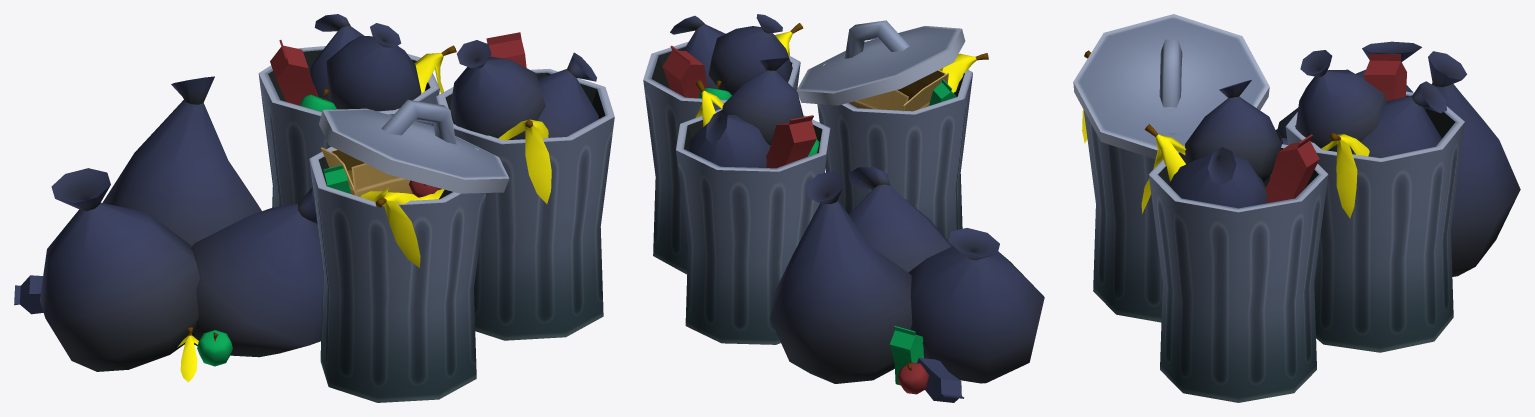
The model's file is prop_GarbagePile01.fbx.
3 renders of one model, left to right at view 1: azimuth 30°, elevation 25°; view 2: azimuth 150°, elevation 25°; view 3: azimuth 270°, elevation 25°, orthographic. The views are drawn at different scales.
Parts seen in each view (by area): view 1: prop_GarbageCan03, prop_GarbageCan02, prop_GarbageBag02, prop_GarbageCan01, prop_GarbageBag01, prop_GarbageBag03, prop_Garbage; view 2: prop_GarbageCan01, prop_GarbageCan03, prop_GarbageBag03, prop_GarbageBag02, prop_GarbageCan02, prop_GarbageBag01, prop_Garbage; view 3: prop_GarbageCan02, prop_GarbageCan01, prop_GarbageCan03, prop_GarbageBag03, prop_GarbageBag02.
Part boxes in pixels (x1,y1,x2,y2): prop_GarbageCan03: (309, 99, 509, 402); prop_GarbageCan02: (436, 32, 614, 340); prop_GarbageBag02: (40, 168, 200, 371); prop_GarbageCan01: (258, 14, 456, 207); prop_GarbageBag01: (191, 187, 323, 357); prop_GarbageBag03: (102, 76, 261, 246); prop_Garbage: (14, 275, 232, 382); prop_GarbageCan01: (676, 58, 830, 344); prop_GarbageCan03: (796, 20, 988, 240); prop_GarbageBag03: (770, 171, 912, 383); prop_GarbageBag02: (908, 228, 1044, 383); prop_GarbageCan02: (643, 14, 803, 274); prop_GarbageBag01: (848, 167, 952, 272); prop_Garbage: (889, 326, 964, 402); prop_GarbageCan02: (1141, 80, 1328, 402); prop_GarbageCan01: (1285, 50, 1464, 352); prop_GarbageCan03: (1073, 14, 1269, 322); prop_GarbageBag03: (1428, 51, 1520, 276); prop_GarbageBag02: (1277, 41, 1421, 138).
Bounding box in the file's own units: 498 × 277 × 399.
